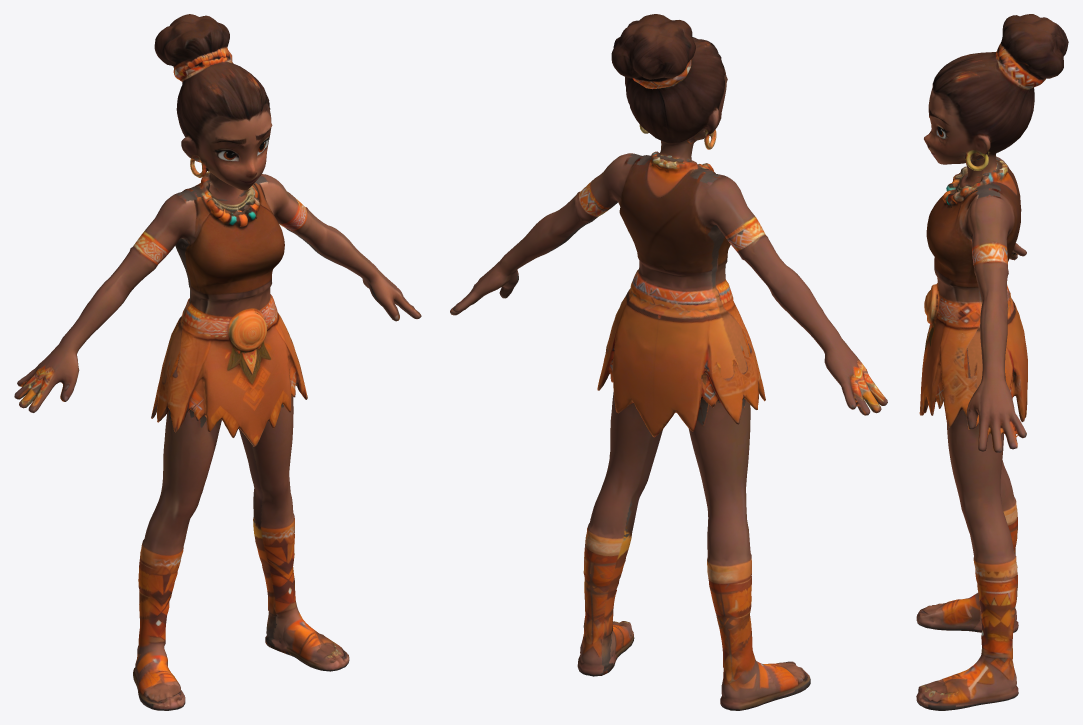
File: Warrior_of_the_Dawn_1010121336_texture.glb
3 views of the same model, side by side, from view 1: azimuth 30°, elevation 25°; view 2: azimuth 150°, elevation 25°; view 3: azimuth 270°, elevation 25° (orthographic). The views are drawn at different scales.
Bounding box in the file's own units: 1.25 × 1.91 × 0.4125.
Materials: 1 (1 with a texture image).
